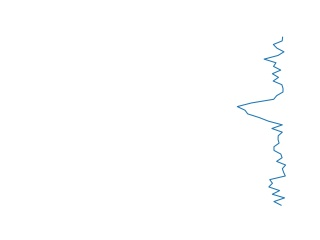interdistributaryEstuary: (233, 37, 296, 206)
